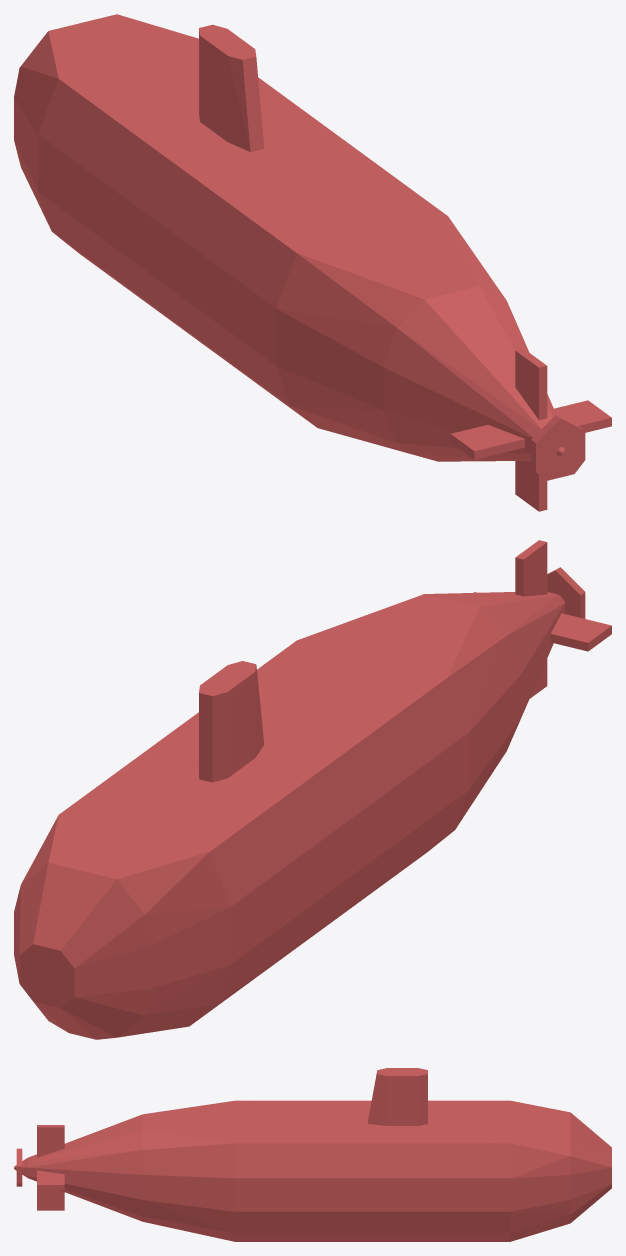
Rendered from wl_submarine.glb.
The picture shows the model from 3 angles, top to bottom: view 1: azimuth 30°, elevation 25°; view 2: azimuth 150°, elevation 25°; view 3: azimuth 270°, elevation 25°; orthographic projection. The views are drawn at different scales.
Visible parts, largest first — view 1: wl_submarine_col; view 2: wl_submarine_col; view 3: wl_submarine_col.
Boxes of the visible parts, x1,y1,x2,y2 form: wl_submarine_col: (14, 14, 611, 511); wl_submarine_col: (14, 540, 611, 1039); wl_submarine_col: (14, 1068, 611, 1241).
Bounding box in the file's own units: 14.01 × 19.52 × 65.01.
